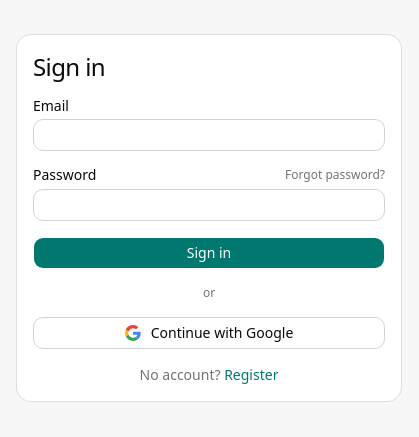
Scenario: LoginForm › shows the mutation error message on failed login
The width and height of the screenshot is (419, 437).
Type "a@b.com" into the field labelled "Email". click: x=209, y=135
box: [33,119,385,151]
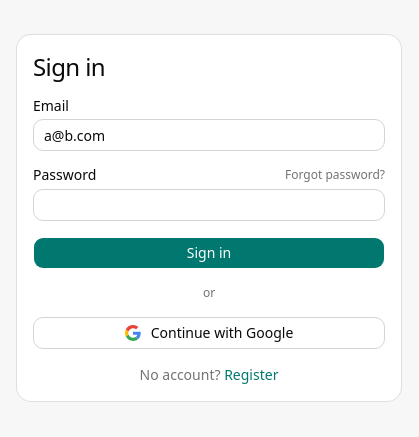
Type "wrongpass" into the password field labelled "Password". click: x=209, y=205
box: [33,189,385,221]
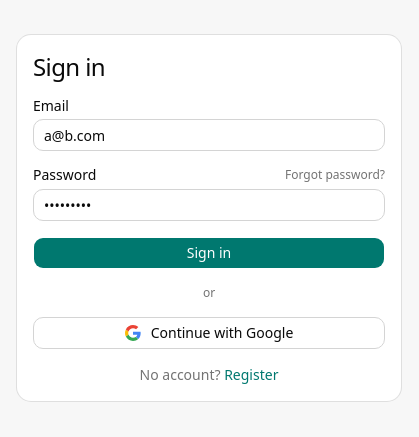
Click the button "Sign in". click: x=209, y=253
box: [33,237,385,269]
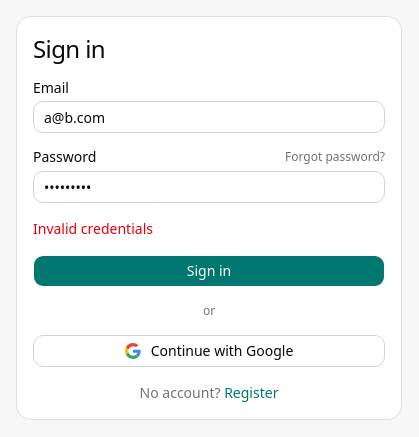
Result: the text "Invalid credentials" is shown at [33,219,153,238]
